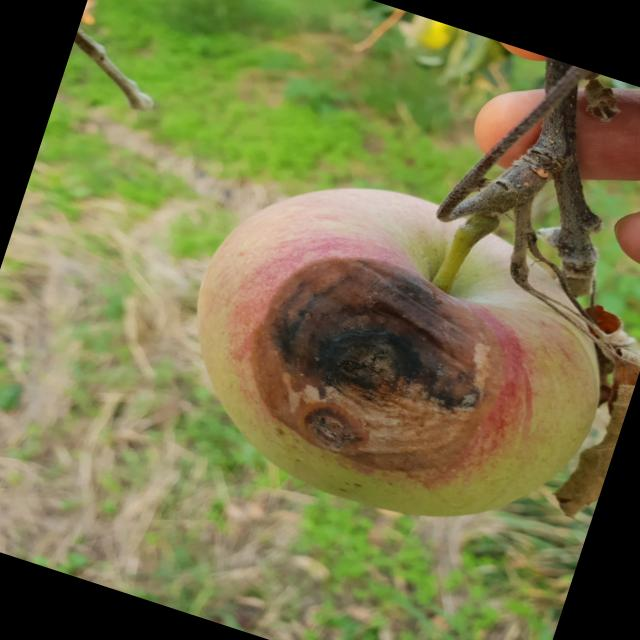rotten: (140, 121, 640, 585)
